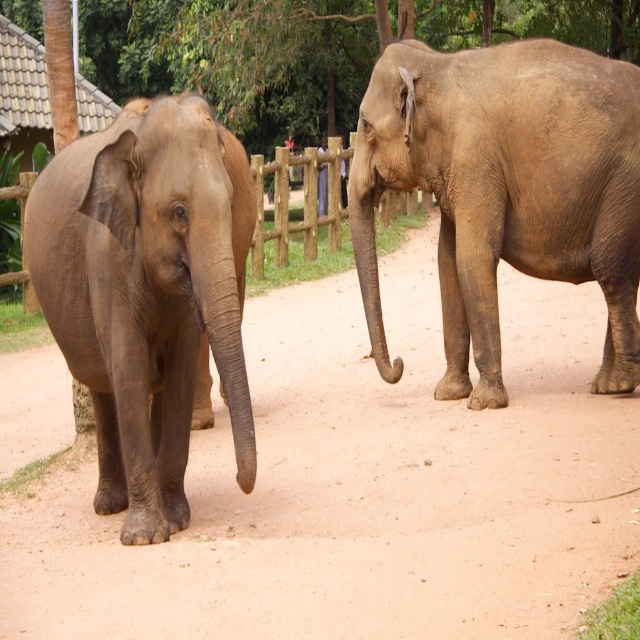Elephant: (341, 36, 639, 413), (21, 93, 266, 545)
